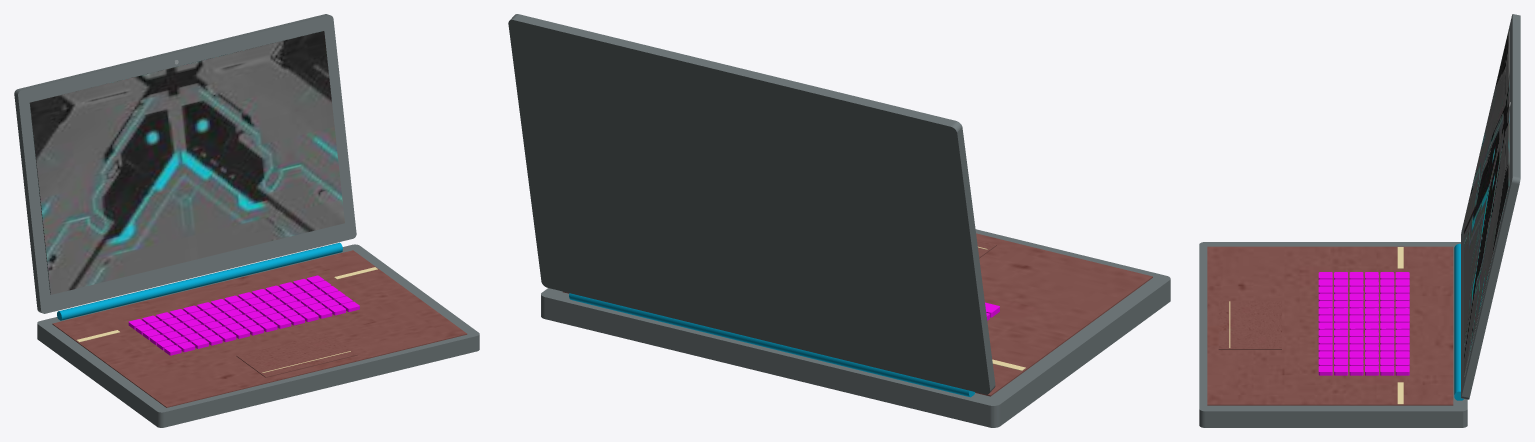
File: Technology_Laptop__0000.glb
3 renders of one model, left to right at view 1: azimuth 30°, elevation 25°; view 2: azimuth 150°, elevation 25°; view 3: azimuth 270°, elevation 25°, orthographic. The views are drawn at different scales.
Visible parts, largest first — view 1: screen_lid::shell_family__budget_plastic__display_panel, base_chassis::shell_family__budget_plastic__palm_deck_skin, screen_lid::shell_family__budget_plastic__lid_shell, base_chassis::shell_family__budget_plastic__lower_shell, base_chassis::hinge_style__full_width_barrel__base_barrel, pointing_surface::pointing_system__integrated_clickpad__pad; view 2: screen_lid::shell_family__budget_plastic__lid_shell, base_chassis::shell_family__budget_plastic__lower_shell, base_chassis::shell_family__budget_plastic__palm_deck_skin, base_chassis::hinge_style__full_width_barrel__base_barrel; view 3: base_chassis::shell_family__budget_plastic__palm_deck_skin, base_chassis::shell_family__budget_plastic__lower_shell, screen_lid::shell_family__budget_plastic__display_panel, screen_lid::shell_family__budget_plastic__lid_shell, pointing_surface::pointing_system__integrated_clickpad__pad, base_chassis::hinge_style__full_width_barrel__base_barrel.
Part boxes in pixels (x1,y1,x2,y2): screen_lid::shell_family__budget_plastic__display_panel: (29, 30, 344, 294); base_chassis::shell_family__budget_plastic__palm_deck_skin: (52, 250, 467, 407); screen_lid::shell_family__budget_plastic__lid_shell: (14, 14, 356, 313); base_chassis::shell_family__budget_plastic__lower_shell: (37, 244, 479, 427); base_chassis::hinge_style__full_width_barrel__base_barrel: (57, 242, 342, 320); pointing_surface::pointing_system__integrated_clickpad__pad: (236, 333, 357, 377); screen_lid::shell_family__budget_plastic__lid_shell: (508, 14, 995, 394); base_chassis::shell_family__budget_plastic__lower_shell: (541, 229, 1170, 427); base_chassis::shell_family__budget_plastic__palm_deck_skin: (563, 233, 1152, 396); base_chassis::hinge_style__full_width_barrel__base_barrel: (569, 293, 975, 397); base_chassis::shell_family__budget_plastic__palm_deck_skin: (1207, 246, 1453, 405); base_chassis::shell_family__budget_plastic__lower_shell: (1199, 242, 1467, 427); screen_lid::shell_family__budget_plastic__display_panel: (1464, 31, 1509, 376); screen_lid::shell_family__budget_plastic__lid_shell: (1461, 14, 1520, 399); pointing_surface::pointing_system__integrated_clickpad__pad: (1218, 300, 1281, 349); base_chassis::hinge_style__full_width_barrel__base_barrel: (1454, 243, 1463, 400).
Size of the model in its own units: 0.3922 by 0.2708 by 0.3146.
Materials: 8 (3 with a texture image).
